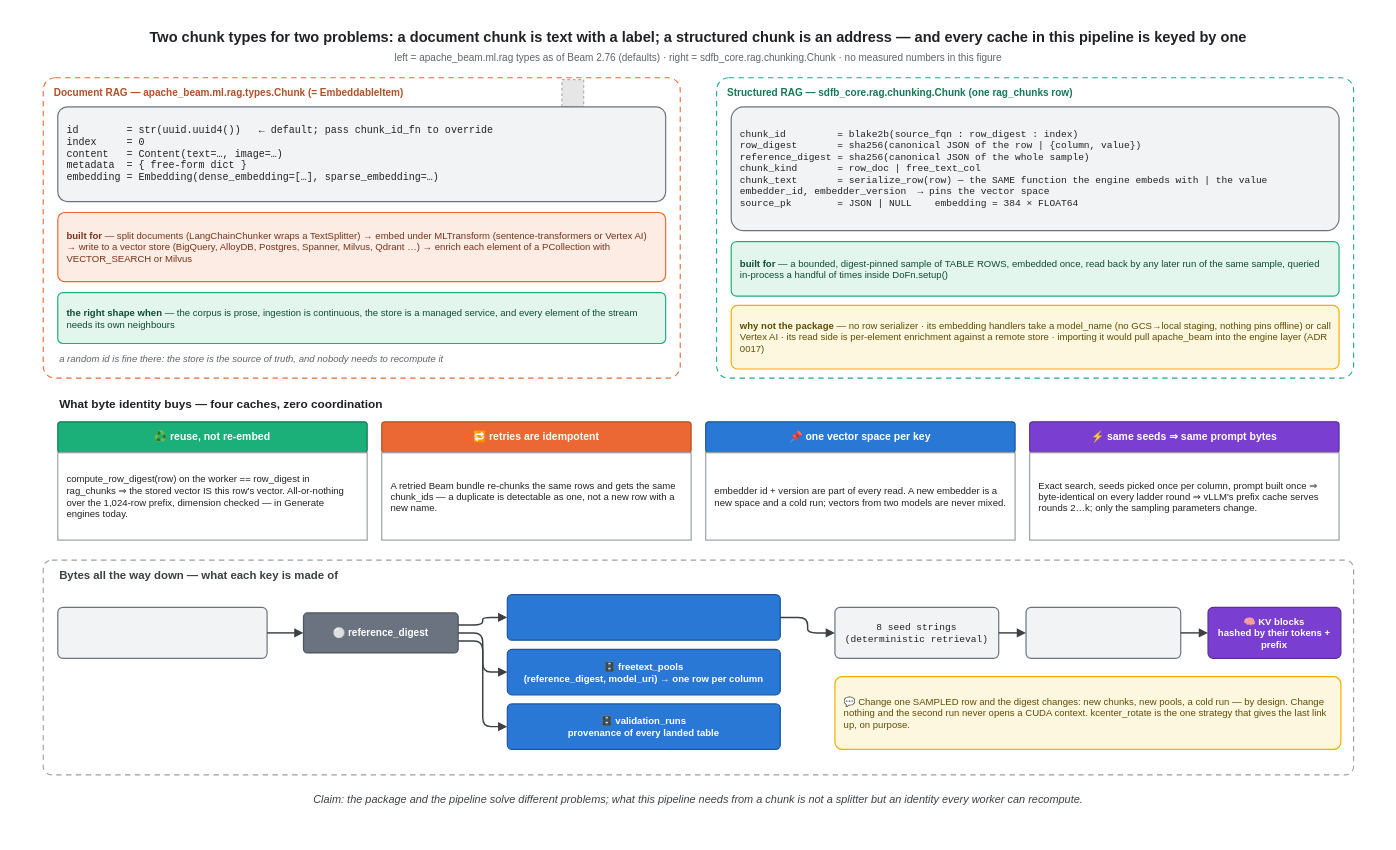
The diagram is 1396 pixels wide and 850 high, and some of its shapes have lost their labels. Grey dashed boxes stand in for pictures. The shapes that lost their labels are listed below. From the top down, each one's centre as x and y in pixels, then its label:
pixel 162 632: canonical rows json.dumps(sort_keys=True, default=str)
pixel 643 617: 🗄️ rag_chunks (reference_digest, chunk_kind, embedder id, version)
pixel 1103 632: prompt bytes static prefix + seeds + clause
